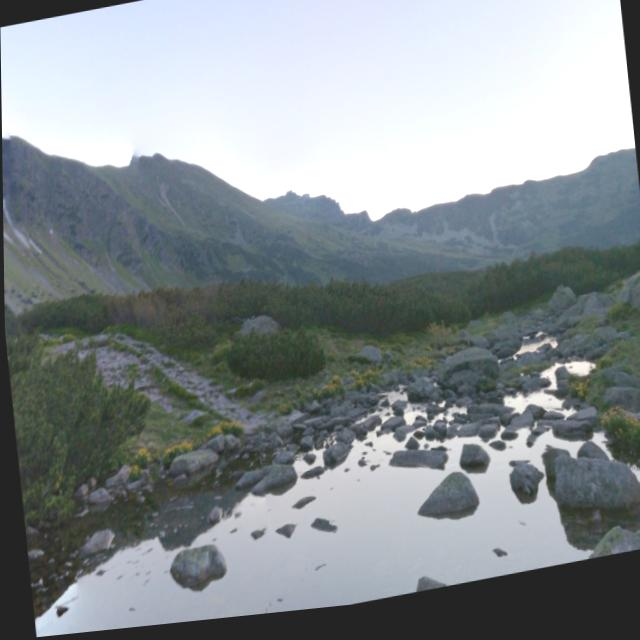Kasprowy Wierch: (216, 104, 386, 287)
